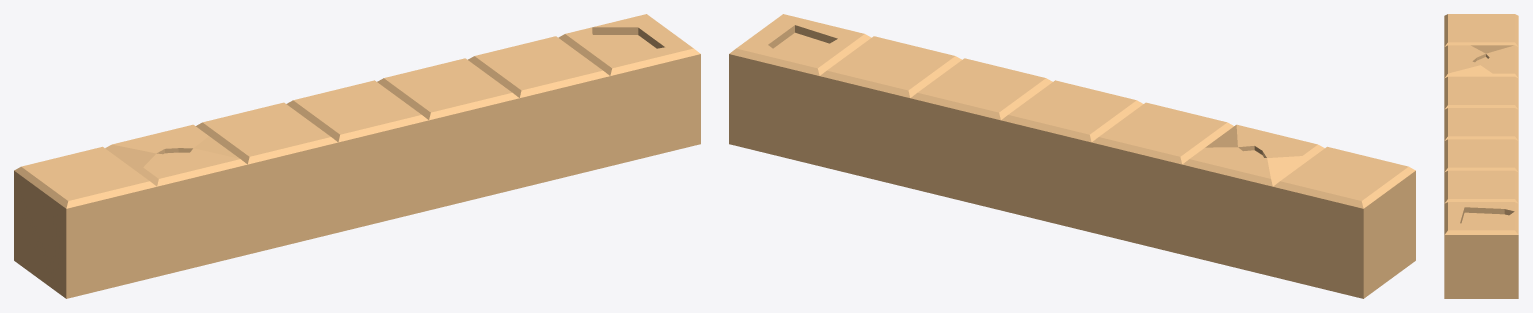
The model's file is 7x1 Floor.fbx.
The picture shows the model from 3 angles, left to right: view 1: azimuth 30°, elevation 25°; view 2: azimuth 150°, elevation 25°; view 3: azimuth 270°, elevation 25°; orthographic projection. The views are drawn at different scales.
Visible parts, largest first — view 1: Cube; view 2: Cube; view 3: Cube.
Boxes of the visible parts, x1,y1,x2,y2 form: Cube: (14, 14, 700, 298); Cube: (729, 14, 1415, 298); Cube: (1444, 14, 1518, 298).
Size of the model in its own units: 700 by 100 by 100.
